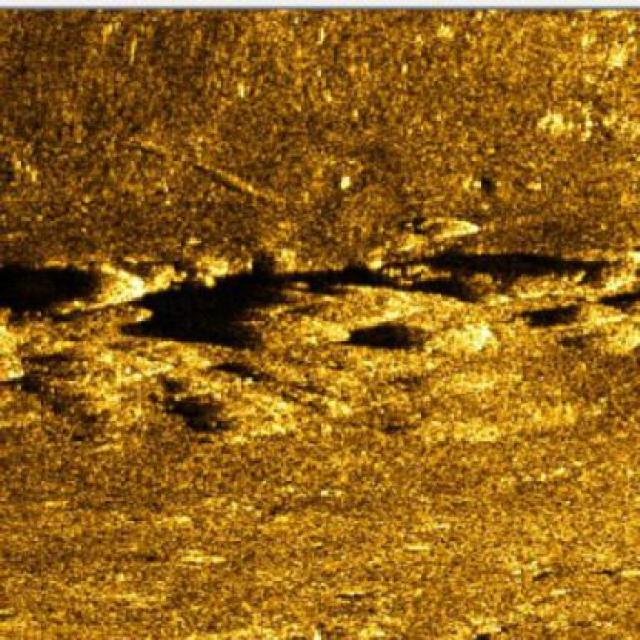bedrock group: (4, 260, 639, 442)
